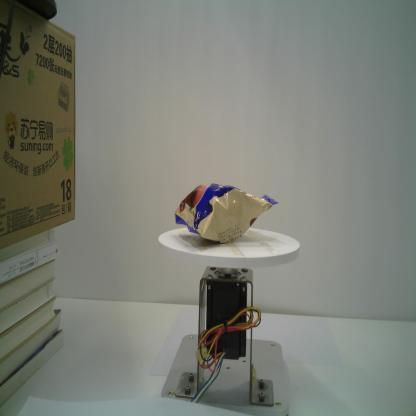Dessert: (172, 180, 282, 248)
